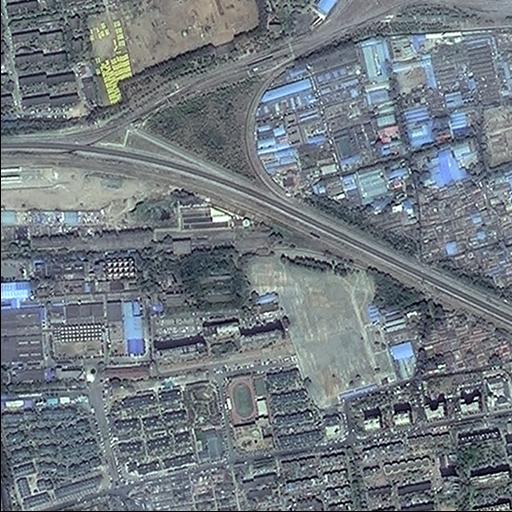school: (222, 371, 276, 455)
